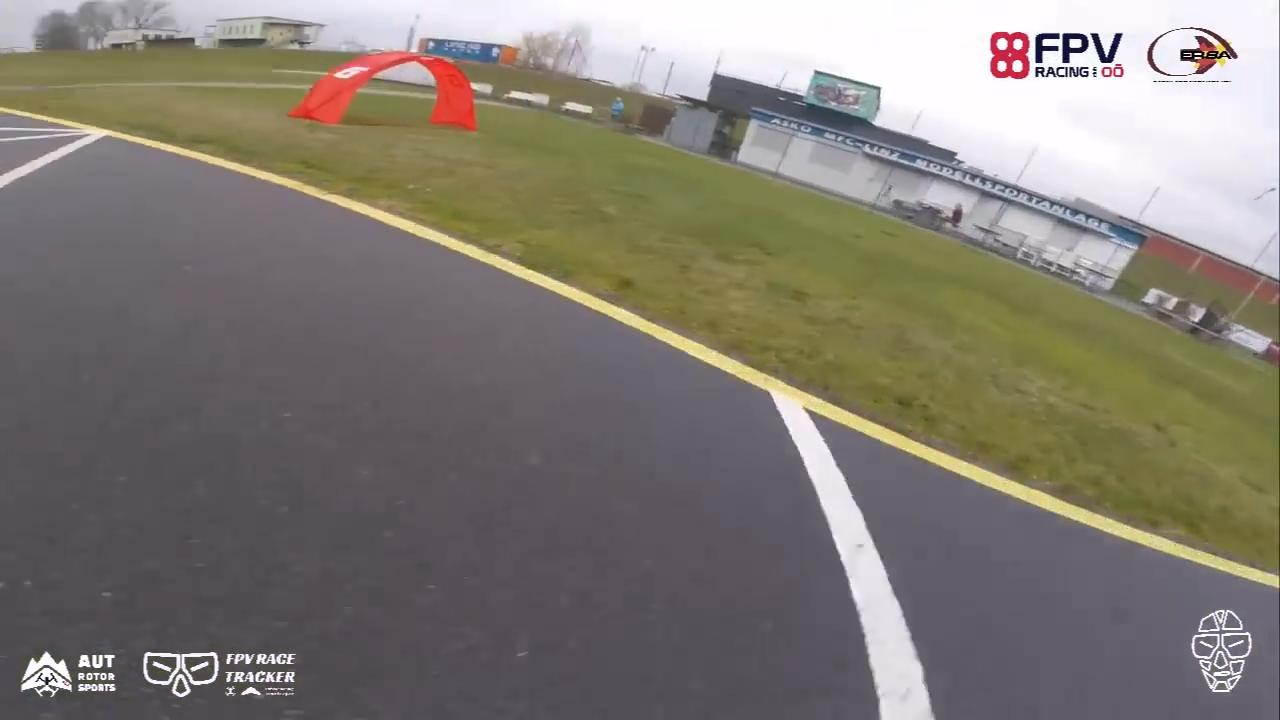gate: (285, 48, 478, 132)
